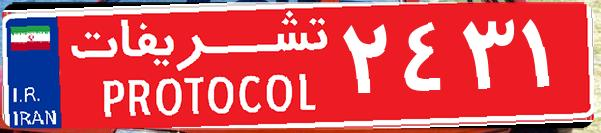1: (520, 20, 580, 115)
2: (340, 20, 400, 115)
3: (460, 20, 520, 115)
4: (400, 20, 460, 115)
تشریفات: (60, 8, 340, 125)
